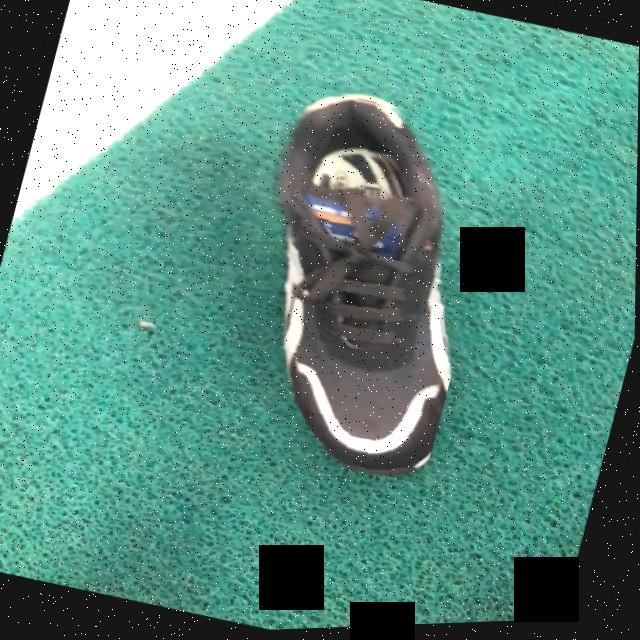shoe: (280, 102, 453, 481)
